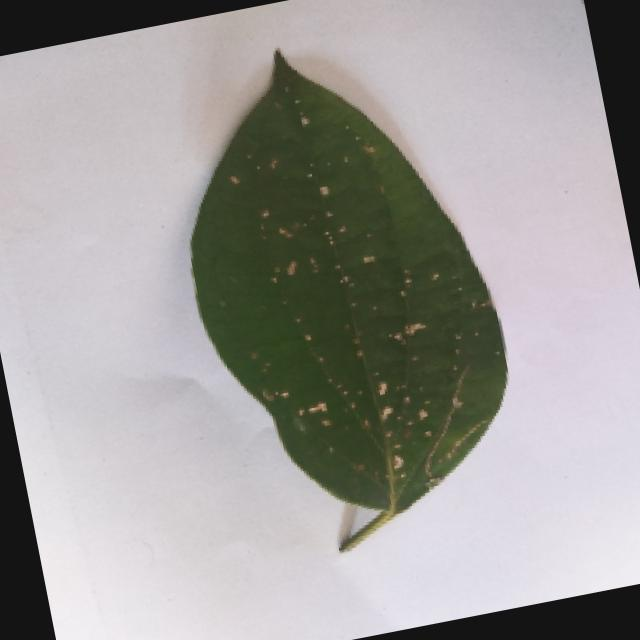pollu-disease: (149, 24, 548, 569)
